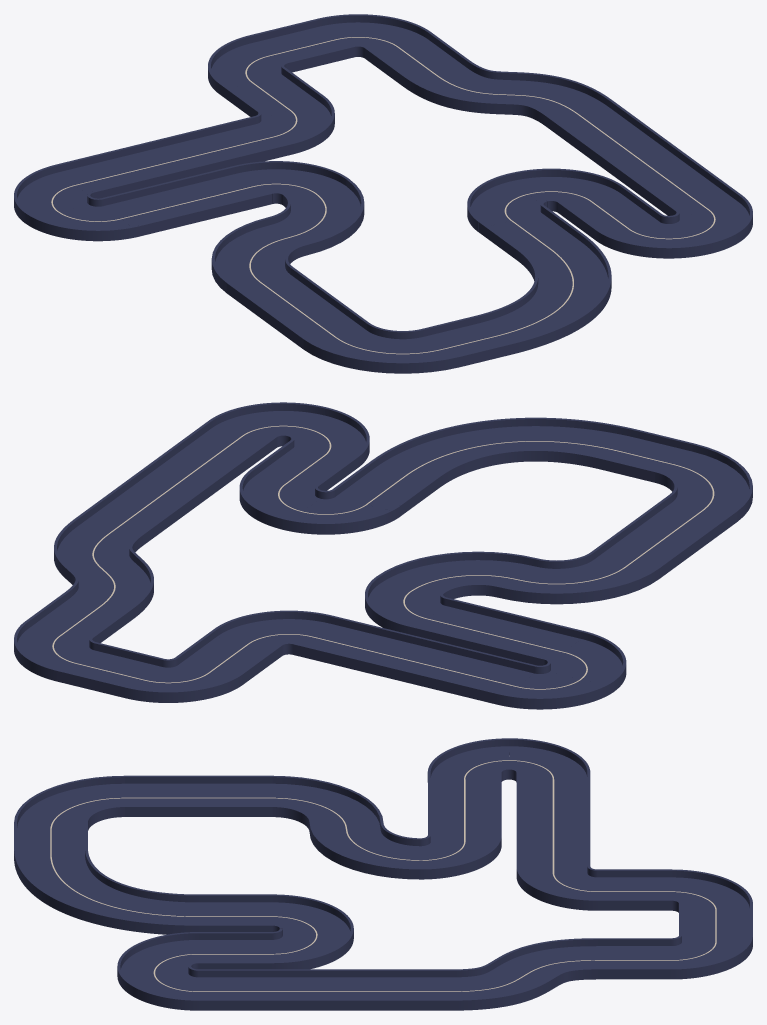
Rendered from WindingTrack.fbx.
3 renders of one model, top to bottom at view 1: azimuth 30°, elevation 25°; view 2: azimuth 150°, elevation 25°; view 3: azimuth 270°, elevation 25°, orthographic. The views are drawn at different scales.
Parts seen in each view (by area): view 1: ModularTrackCurveLarge, ModularTrackSCurveLeft__1_, ModularTrackCurveMedium__2_, ModularTrackCurveMedium__1_, ModularTrackCurveMedium, ModularTrackStraight__19_, ModularTrackStraight__3_, ModularTrackStraight__4_, ModularTrackStraight__14_, ModularTrackStraight__2_, ModularTrackCurveSmall__7_, ModularTrackCurveSmall__2_ (+19 smaller); view 2: ModularTrackCurveLarge, ModularTrackSCurveLeft__1_, ModularTrackCurveMedium, ModularTrackCurveMedium__1_, ModularTrackCurveMedium__2_, ModularTrackStraight__19_, ModularTrackStraight__2_, ModularTrackStraight, ModularTrackStraight__14_, ModularTrackStraight__1_, ModularTrackCurveSmall__6_, ModularTrackCurveSmall__8_ (+19 smaller); view 3: ModularTrackCurveLarge, ModularTrackSCurveLeft__1_, ModularTrackCurveMedium__1_, ModularTrackCurveMedium__2_, ModularTrackCurveMedium, ModularTrackStraight__19_, ModularTrackStraight__5_, ModularTrackStraight__11_, ModularTrackStraight__15_, ModularTrackStraight__16_, ModularTrackStraight__13_, ModularTrackStraight__6_ (+19 smaller).
Part boxes in pixels (left/top/right/bottom): ModularTrackCurveLarge: left=475, top=233, right=611, bottom=354; ModularTrackSCurveLeft__1_: left=403, top=60, right=611, bottom=125; ModularTrackCurveMedium__2_: left=303, top=323, right=459, bottom=373; ModularTrackCurveMedium__1_: left=211, top=217, right=306, bottom=293; ModularTrackCurveMedium: left=269, top=179, right=364, bottom=255; ModularTrackStraight__19_: left=545, top=100, right=664, bottom=164; ModularTrackStraight__3_: left=102, top=182, right=206, bottom=236; ModularTrackStraight__4_: left=168, top=166, right=272, bottom=220; ModularTrackStraight__14_: left=250, top=19, right=354, bottom=72; ModularTrackStraight__2_: left=188, top=116, right=292, bottom=167; ModularTrackCurveSmall__7_: left=316, top=14, right=430, bottom=57; ModularTrackCurveSmall__2_: left=234, top=161, right=348, bottom=204; ModularTrackCurveLarge: left=372, top=417, right=639, bottom=487; ModularTrackSCurveLeft__1_: left=54, top=518, right=153, bottom=619; ModularTrackCurveMedium: left=376, top=551, right=536, bottom=598; ModularTrackCurveMedium__1_: left=498, top=552, right=658, bottom=604; ModularTrackCurveMedium__2_: left=655, top=443, right=752, bottom=521; ModularTrackStraight__19_: left=76, top=478, right=198, bottom=545; ModularTrackStraight__2_: left=293, top=615, right=399, bottom=671; ModularTrackStraight: left=429, top=648, right=535, bottom=704; ModularTrackStraight__14_: left=57, top=642, right=163, bottom=697; ModularTrackStraight__1_: left=361, top=632, right=467, bottom=687; ModularTrackCurveSmall__6_: left=209, top=402, right=325, bottom=447; ModularTrackCurveSmall__8_: left=214, top=610, right=331, bottom=655; ModularTrackCurveLarge: left=14, top=847, right=198, bottom=934; ModularTrackSCurveLeft__1_: left=450, top=938, right=597, bottom=1010; ModularTrackCurveMedium__1_: left=272, top=775, right=383, bottom=831; ModularTrackCurveMedium__2_: left=14, top=775, right=124, bottom=830; ModularTrackCurveMedium: left=309, top=822, right=420, bottom=879; ModularTrackStraight__19_: left=346, top=969, right=449, bottom=1010; ModularTrackStraight__5_: left=198, top=775, right=272, bottom=816; ModularTrackStraight__11_: left=272, top=969, right=346, bottom=1010; ModularTrackStraight__15_: left=198, top=969, right=272, bottom=1010; ModularTrackStraight__16_: left=597, top=869, right=671, bottom=910; ModularTrackStraight__13_: left=597, top=938, right=671, bottom=979; ModularTrackStraight__6_: left=125, top=775, right=198, bottom=816.
Size of the model in its own units: 8401 by 150 by 10000.
